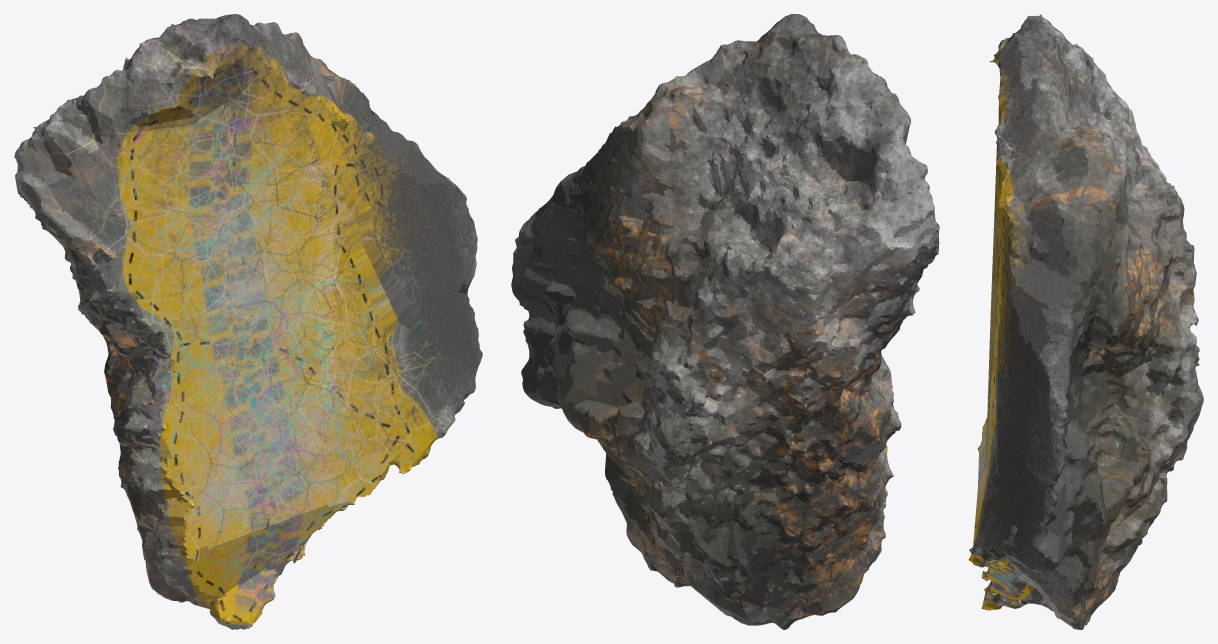
The model's file is meteor.glb.
The picture shows the model from 3 angles, left to right: view 1: azimuth 30°, elevation 25°; view 2: azimuth 150°, elevation 25°; view 3: azimuth 270°, elevation 25°; orthographic projection. The views are drawn at different scales.
Parts seen in each view (by area): view 1: Block Island 08152013; view 2: Block Island 08152013; view 3: Block Island 08152013.
Part boxes in pixels (x1=…): Block Island 08152013: x1=14, y1=14, x2=482, y2=629; Block Island 08152013: x1=511, y1=14, x2=939, y2=629; Block Island 08152013: x1=968, y1=14, x2=1203, y2=629.
Size of the model in its own units: 1.35 by 1.74 by 0.646.
Materials: 1 (1 with a texture image).
